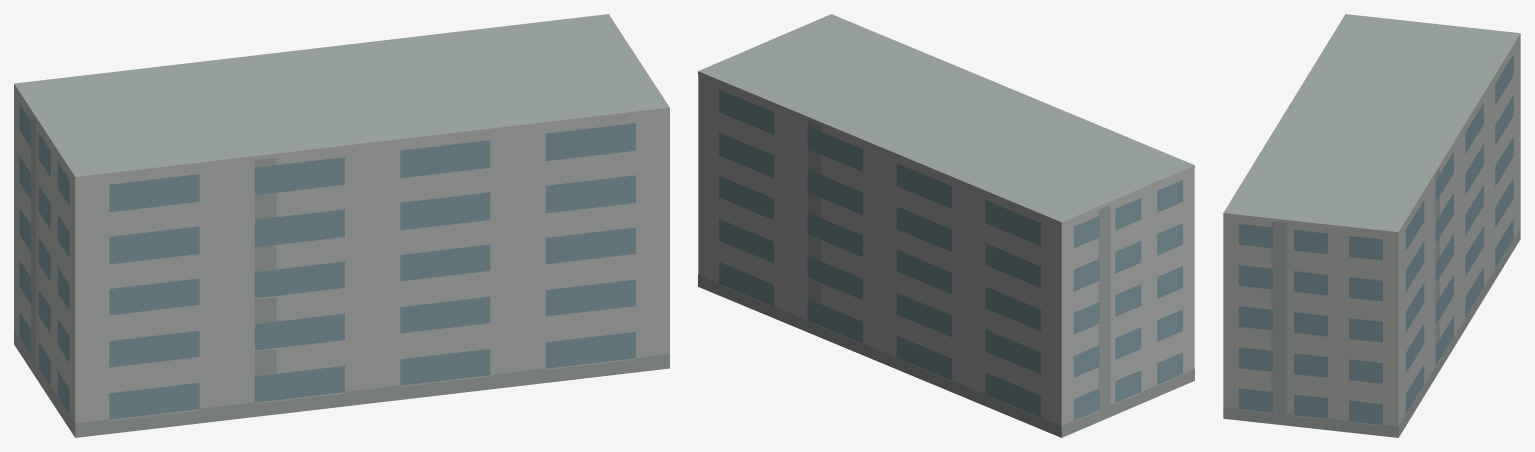
File: residential-e0fabec1-f127-4427-a8d9-34613014b1bb.glb
3 renders of one model, left to right at view 1: azimuth 30°, elevation 25°; view 2: azimuth 150°, elevation 25°; view 3: azimuth 270°, elevation 25°, orthographic. The views are drawn at different scales.
Parts seen in each view (by area): view 1: residential-e0fabec1-f127-4427-a8d9-34613014b1bb.tmp; view 2: residential-e0fabec1-f127-4427-a8d9-34613014b1bb.tmp; view 3: residential-e0fabec1-f127-4427-a8d9-34613014b1bb.tmp.
Part boxes in pixels (bbox=[...]): residential-e0fabec1-f127-4427-a8d9-34613014b1bb.tmp: bbox=[14, 14, 669, 437]; residential-e0fabec1-f127-4427-a8d9-34613014b1bb.tmp: bbox=[698, 14, 1194, 437]; residential-e0fabec1-f127-4427-a8d9-34613014b1bb.tmp: bbox=[1223, 14, 1520, 437].
Bounding box in the file's own units: 34.71 × 15.25 × 19.99.
